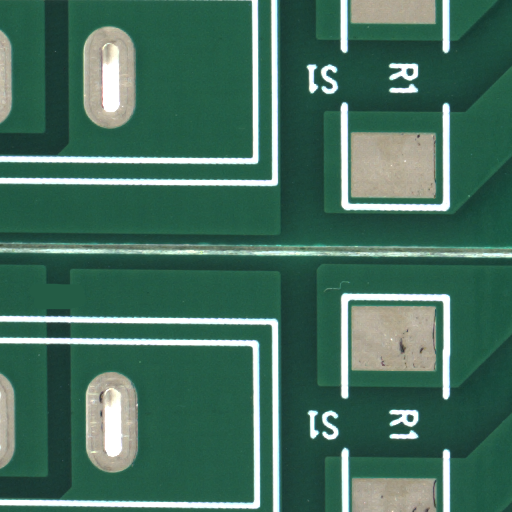Short: (57, 295, 108, 334)
